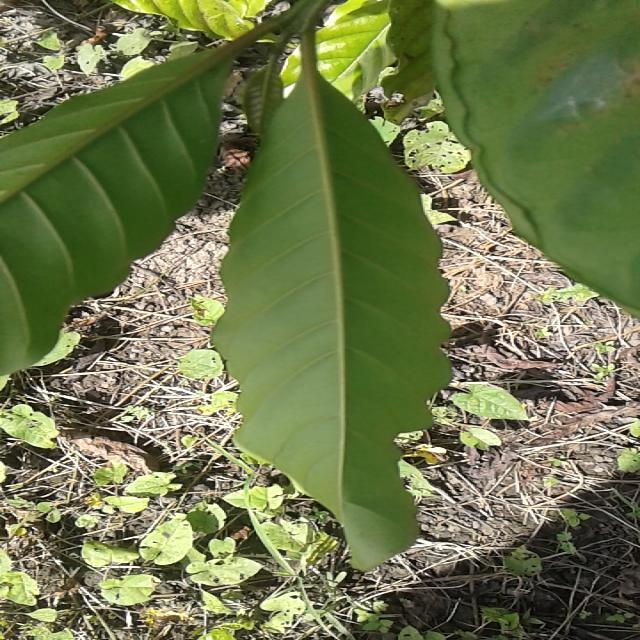Sanas: (210, 80, 452, 572)
